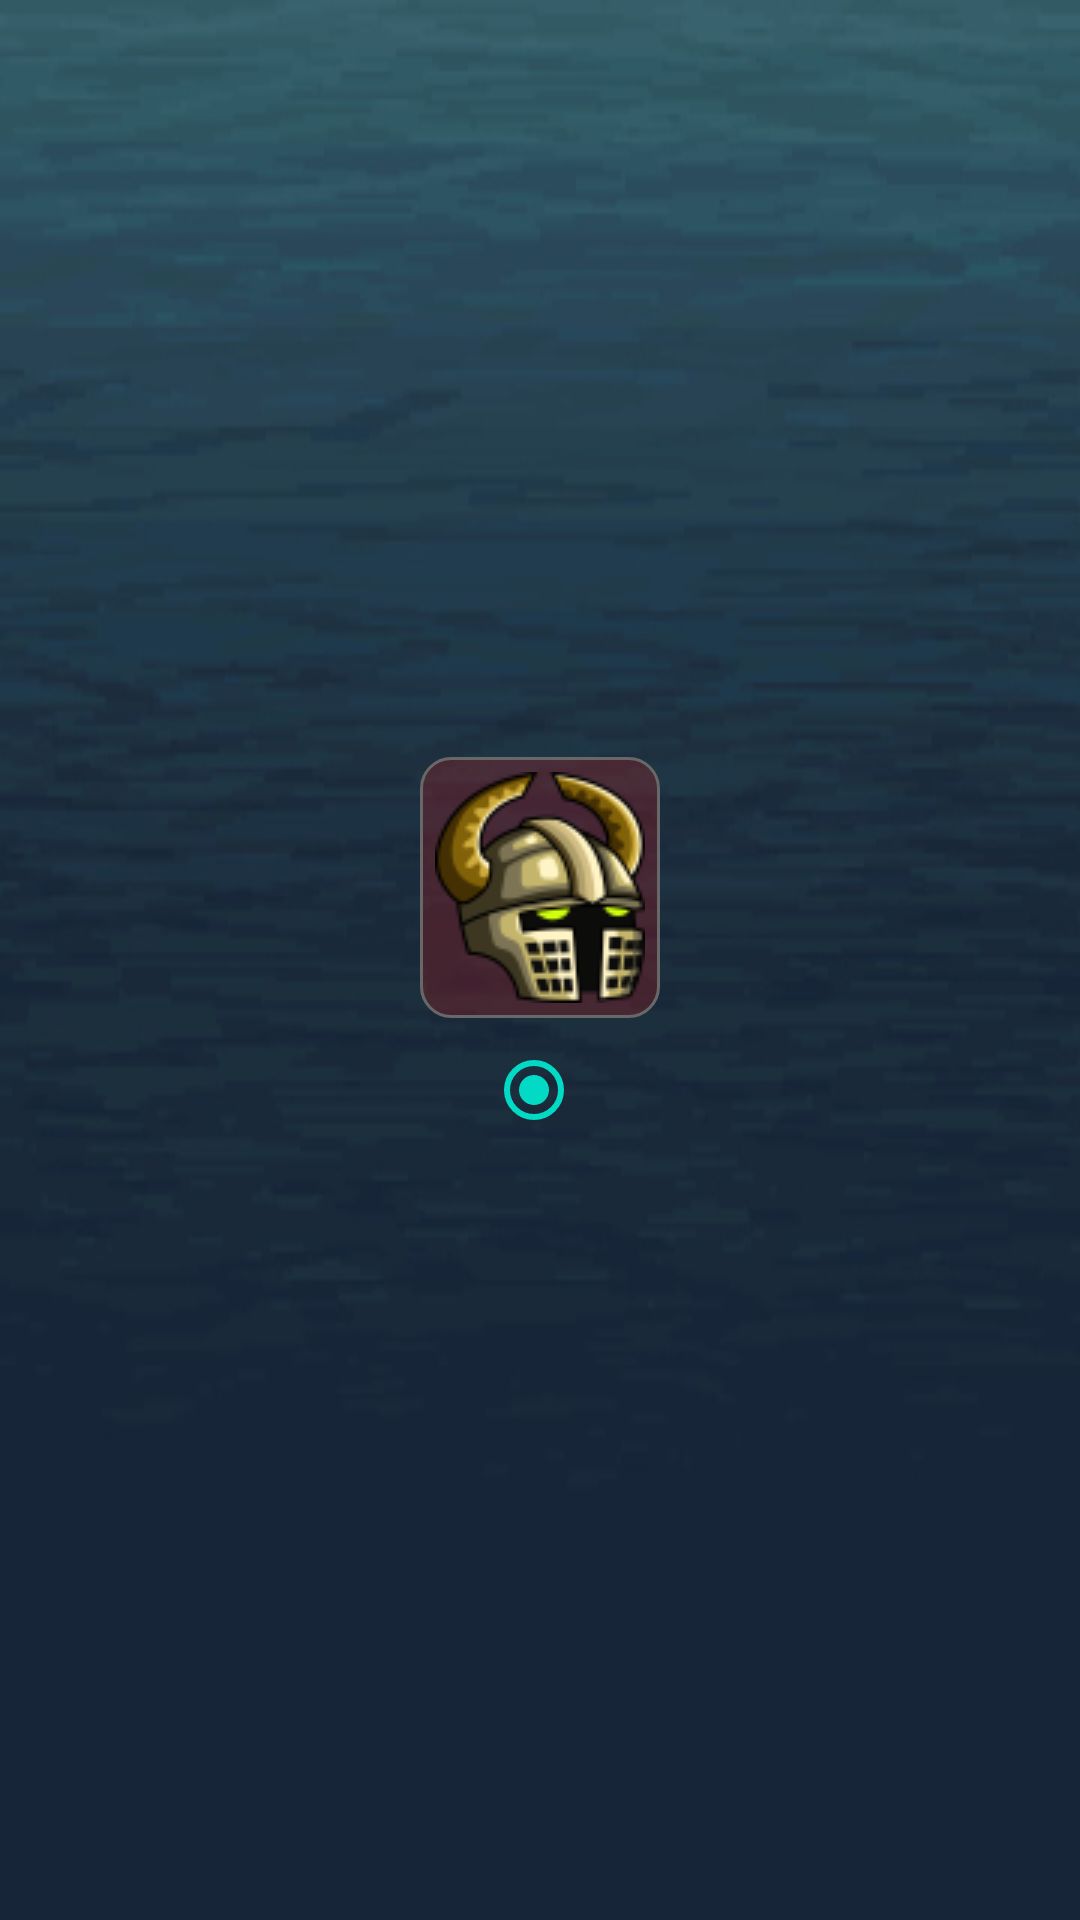

Icons on this 1080px x 1920px Android screen, each with its box as [x1,y1,x2,y2]:
choice char: [420,757,660,1018]
